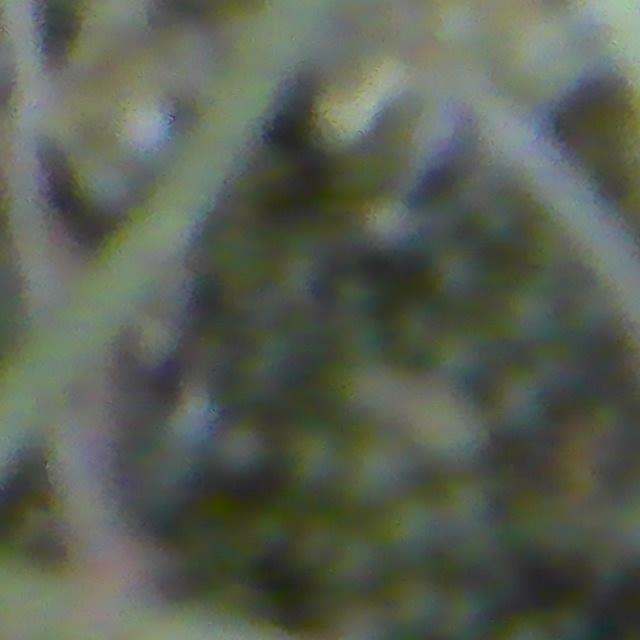SeaGrape: (409, 391, 488, 469), (343, 434, 415, 510), (378, 492, 449, 565), (283, 424, 351, 494), (322, 528, 387, 596), (387, 575, 448, 636), (426, 0, 493, 54), (214, 420, 271, 478)
